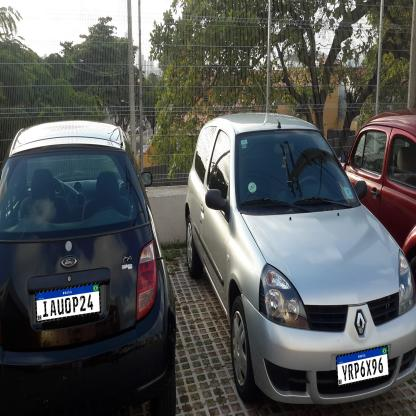PlacaM: (35, 282, 101, 323), (336, 345, 390, 387)
